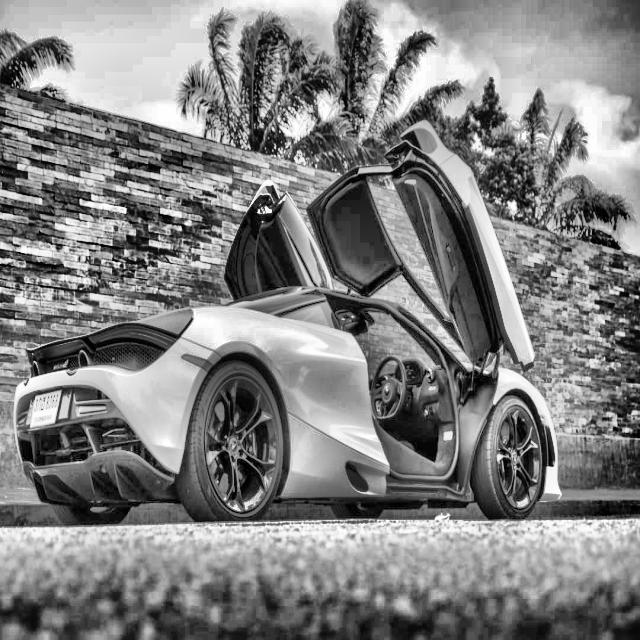license-plate: (28, 386, 66, 429)
